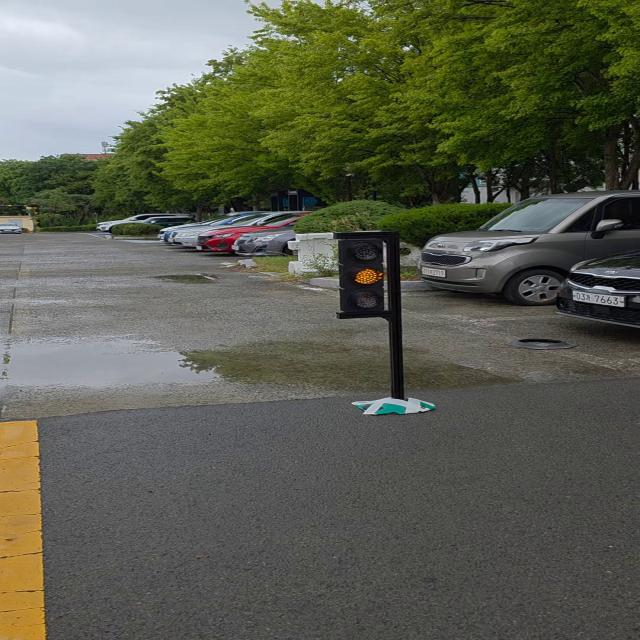yellow: (344, 236, 391, 316)
